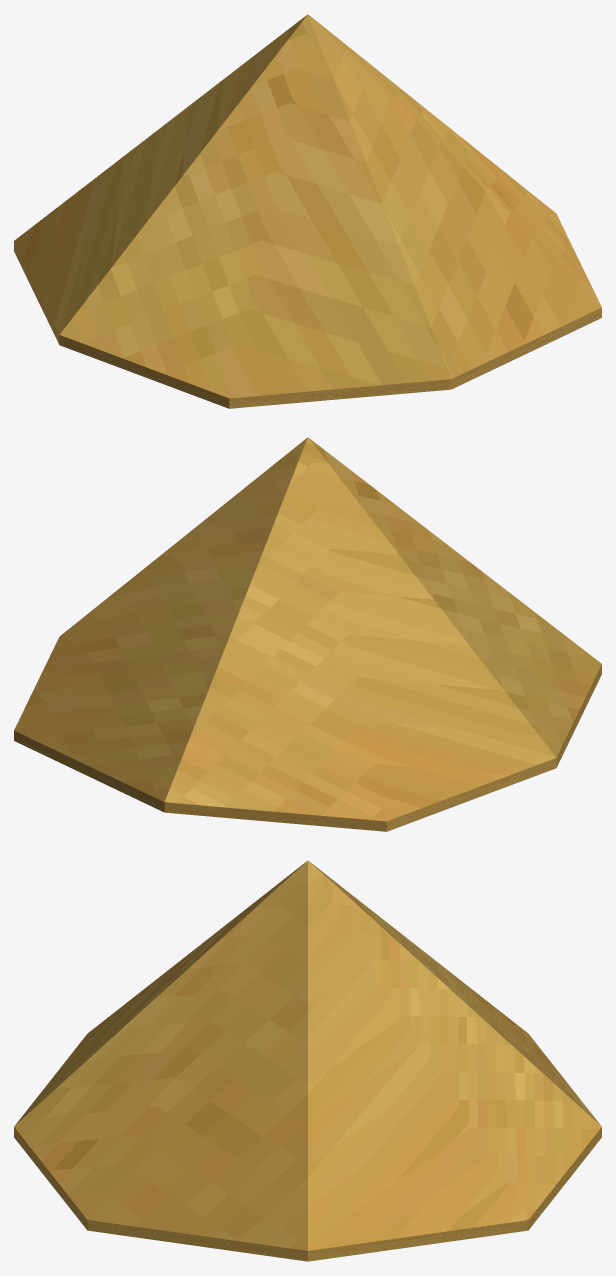
File: lamp.fbx
The picture shows the model from 3 angles, top to bottom: view 1: azimuth 30°, elevation 25°; view 2: azimuth 150°, elevation 25°; view 3: azimuth 270°, elevation 25°; orthographic projection. The views are drawn at different scales.
Parts seen in each view (by area): view 1: Cube; view 2: Cube; view 3: Cube.
Part boxes in pixels (x1,y1,x2,y2): Cube: [14, 14, 601, 408]; Cube: [14, 437, 601, 831]; Cube: [14, 860, 601, 1261].
Size of the model in its own units: 200 by 104 by 200.
